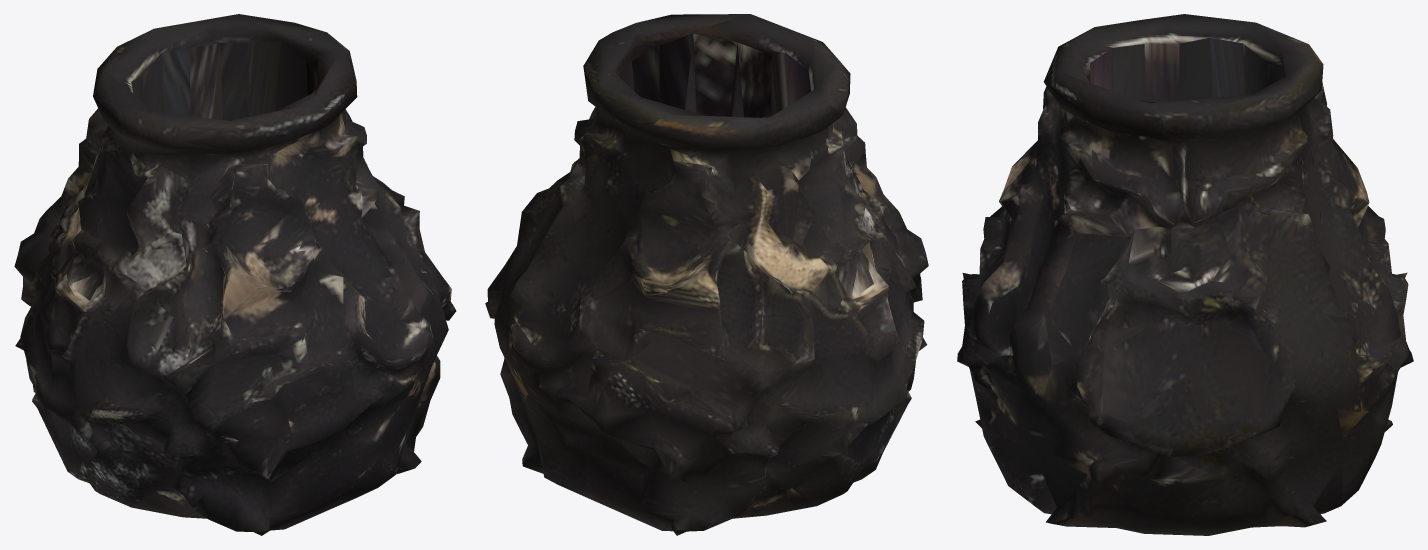
Rendered from MaterialPlace_01.glb.
3 views of the same model, side by side, from view 1: azimuth 30°, elevation 25°; view 2: azimuth 150°, elevation 25°; view 3: azimuth 270°, elevation 25° (orthographic). The views are drawn at different scales.
Parts seen in each view (by area): view 1: Meshy_AI_Row_of_Earthy_Ceramic_0509115641_texture; view 2: Meshy_AI_Row_of_Earthy_Ceramic_0509115641_texture; view 3: Meshy_AI_Row_of_Earthy_Ceramic_0509115641_texture.
Part boxes in pixels (x1,y1,x2,y2): Meshy_AI_Row_of_Earthy_Ceramic_0509115641_texture: (14,14,456,535); Meshy_AI_Row_of_Earthy_Ceramic_0509115641_texture: (485,14,928,535); Meshy_AI_Row_of_Earthy_Ceramic_0509115641_texture: (957,14,1413,535).
Bounding box in the file's own units: 0.3664 × 0.3697 × 0.3644.
Materials: 1 (1 with a texture image).
